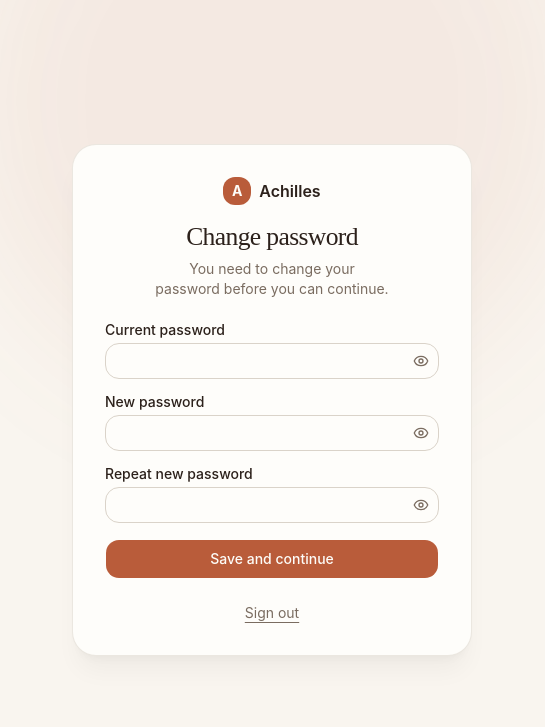
Test: ChangePasswordPage › blocks submit and flags a mismatch before any request
Type "old-passphrase-2026" into the password field labelled "Current password". click: coordinates (272, 361)
box: [105,343,439,379]
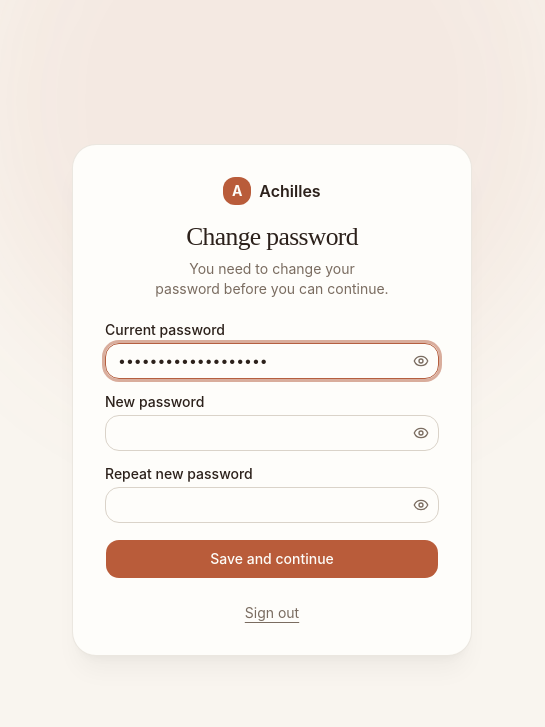
Type "a-fresh-passphrase-2026" into the password field labelled "New password". click: coordinates (272, 433)
box: [105,415,439,451]
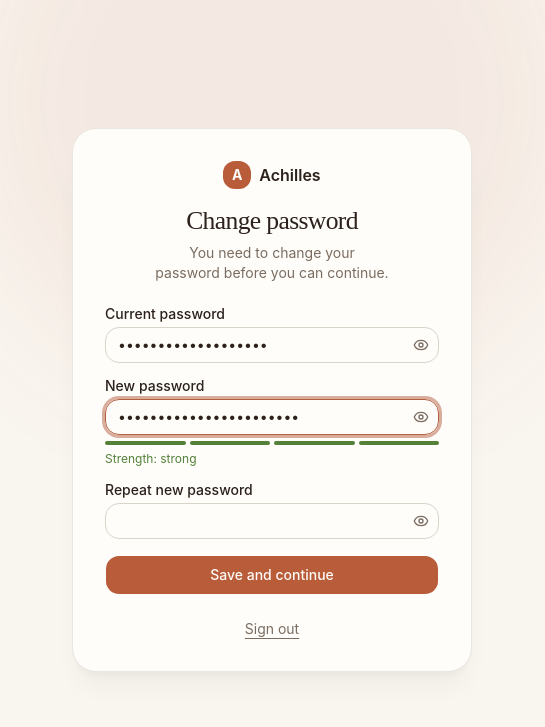
Type "typo-2026" into the password field labelled "Repeat new password". click: coordinates (272, 521)
box: [105,503,439,539]
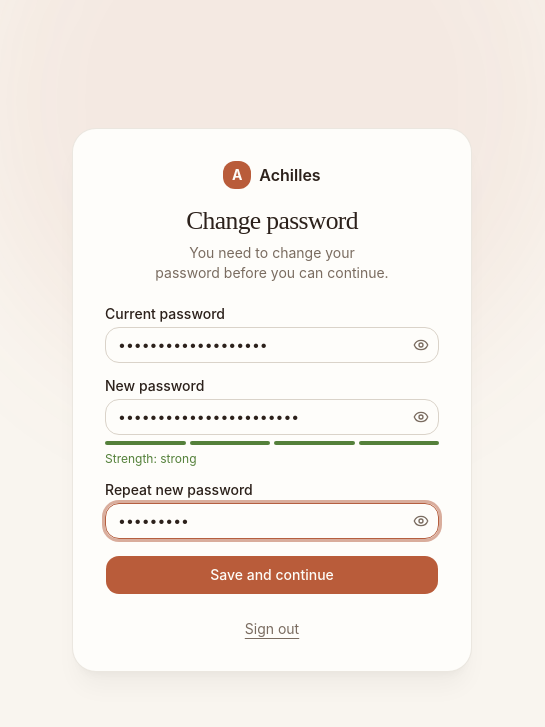
Click the button "Save and continue". click: coordinates (272, 575)
box: [105,555,439,595]
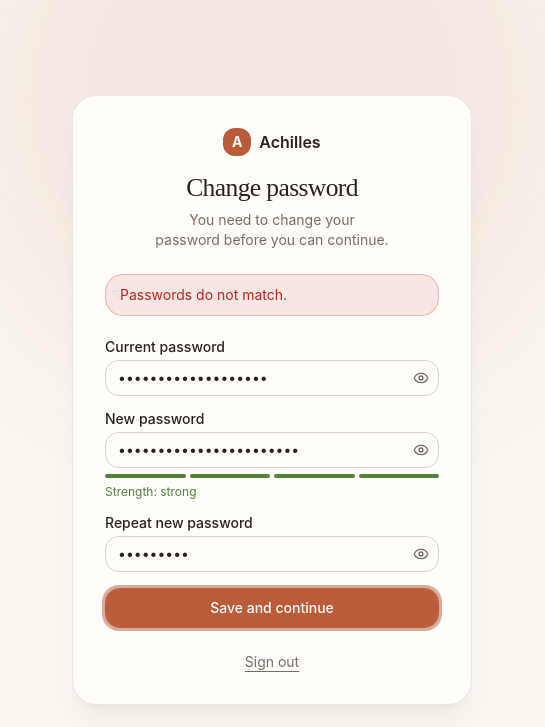
Expected: the text "Passwords do not match." is shown, [105,274,439,316]
